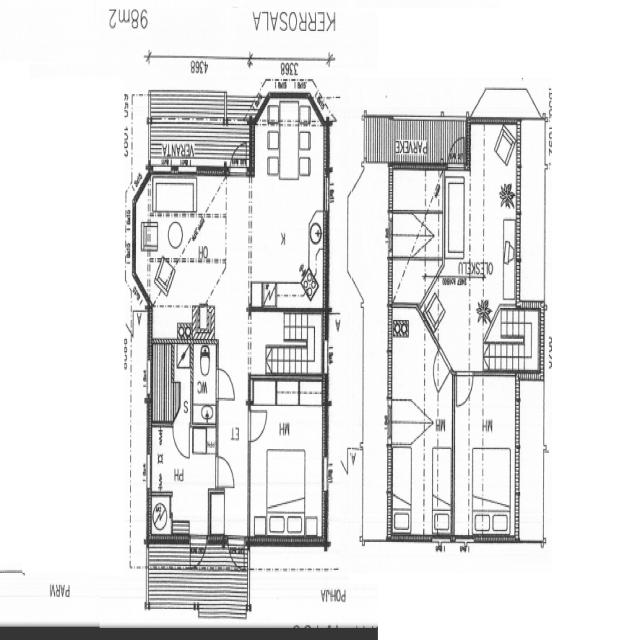door: (226, 138, 250, 182), (431, 347, 453, 395), (453, 366, 475, 412), (187, 532, 208, 576), (246, 405, 268, 444), (214, 452, 236, 491), (215, 365, 236, 403), (171, 422, 192, 460), (227, 537, 247, 574), (446, 138, 466, 174)
window: (245, 314, 254, 378), (145, 354, 155, 399), (518, 532, 544, 549), (322, 169, 331, 216), (145, 447, 154, 491), (322, 336, 330, 371)
zone: (247, 110, 326, 312), (248, 383, 326, 540), (139, 175, 232, 302), (454, 371, 517, 540), (468, 119, 520, 300), (148, 426, 216, 535), (388, 304, 436, 428), (391, 176, 444, 264), (389, 416, 425, 539), (149, 338, 192, 424), (392, 165, 443, 218), (192, 342, 217, 424)
